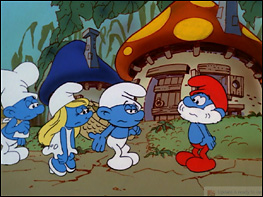smurf: (173, 75, 230, 172), (36, 81, 94, 176), (88, 81, 148, 169), (1, 60, 42, 165)
